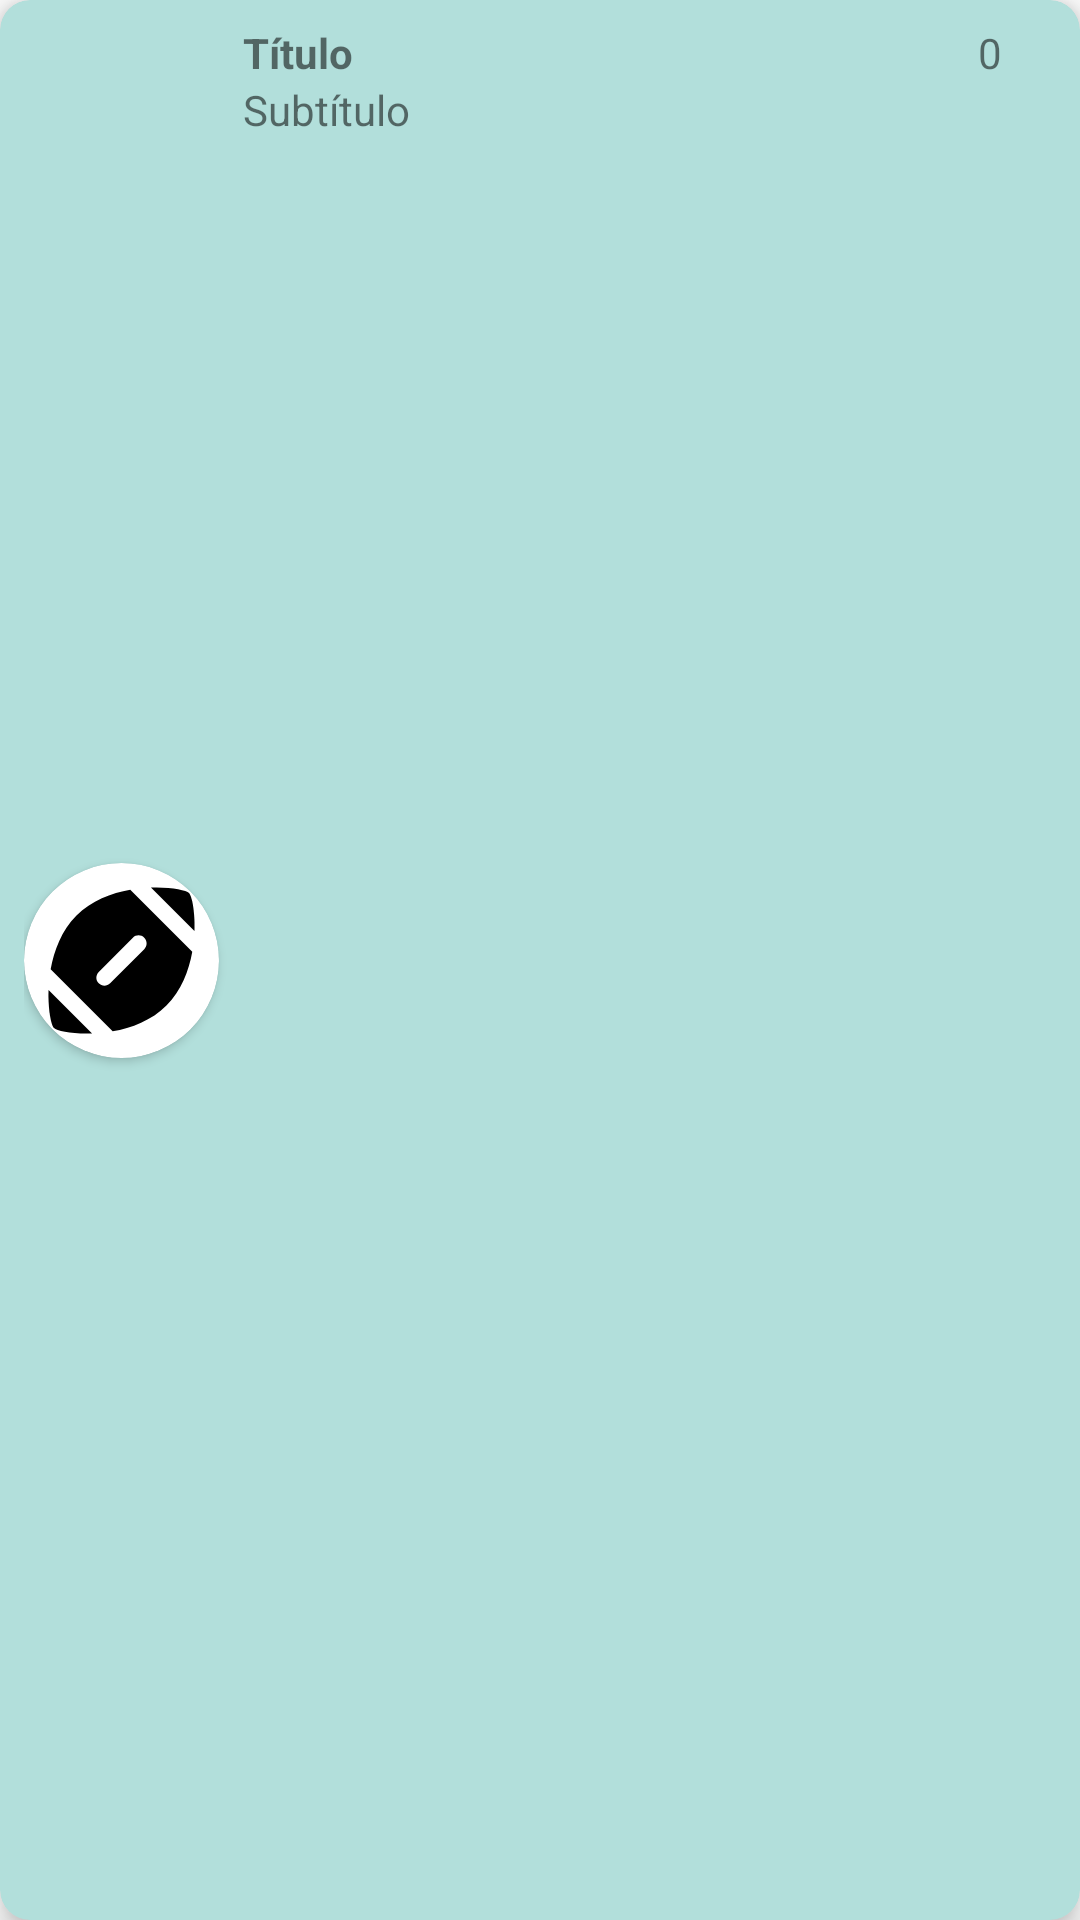

Icons on this 1080w x 1920h Android screen, each with the point to tap as (x=x, y=y):
rugby: (x=121, y=960)
